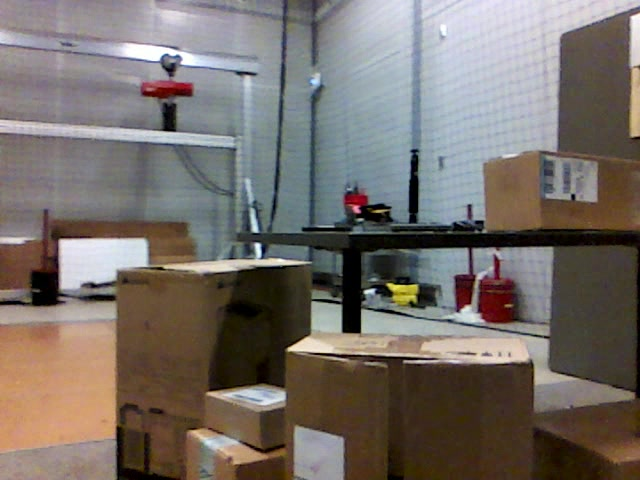box: (119, 258, 313, 480), (286, 331, 535, 480), (484, 150, 640, 230), (533, 397, 640, 473), (186, 427, 292, 480), (205, 382, 289, 447)
